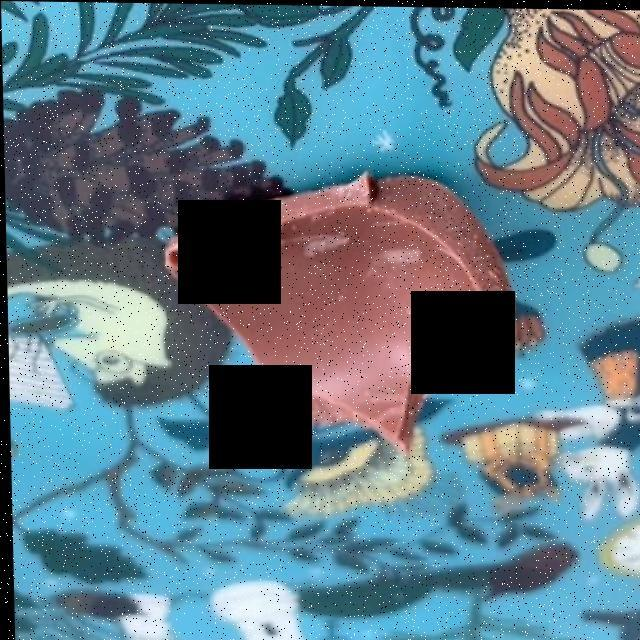chocolate: (170, 179, 499, 442)
